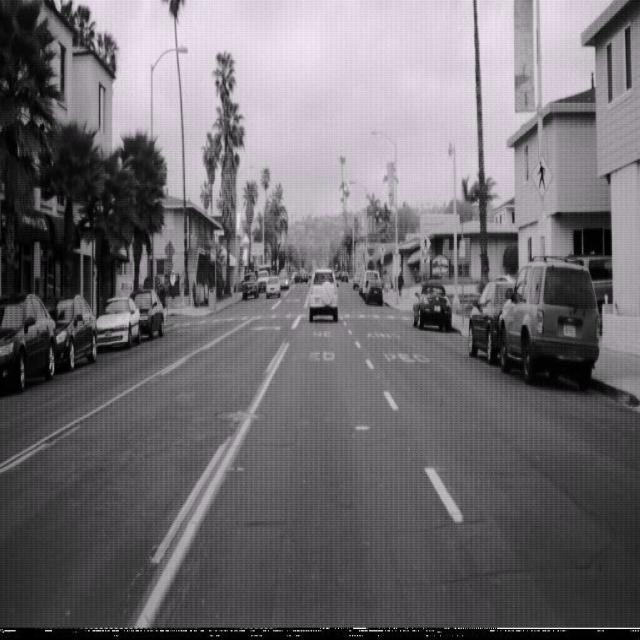pedestrianCrossing: (530, 152, 553, 199), (419, 231, 432, 256)
